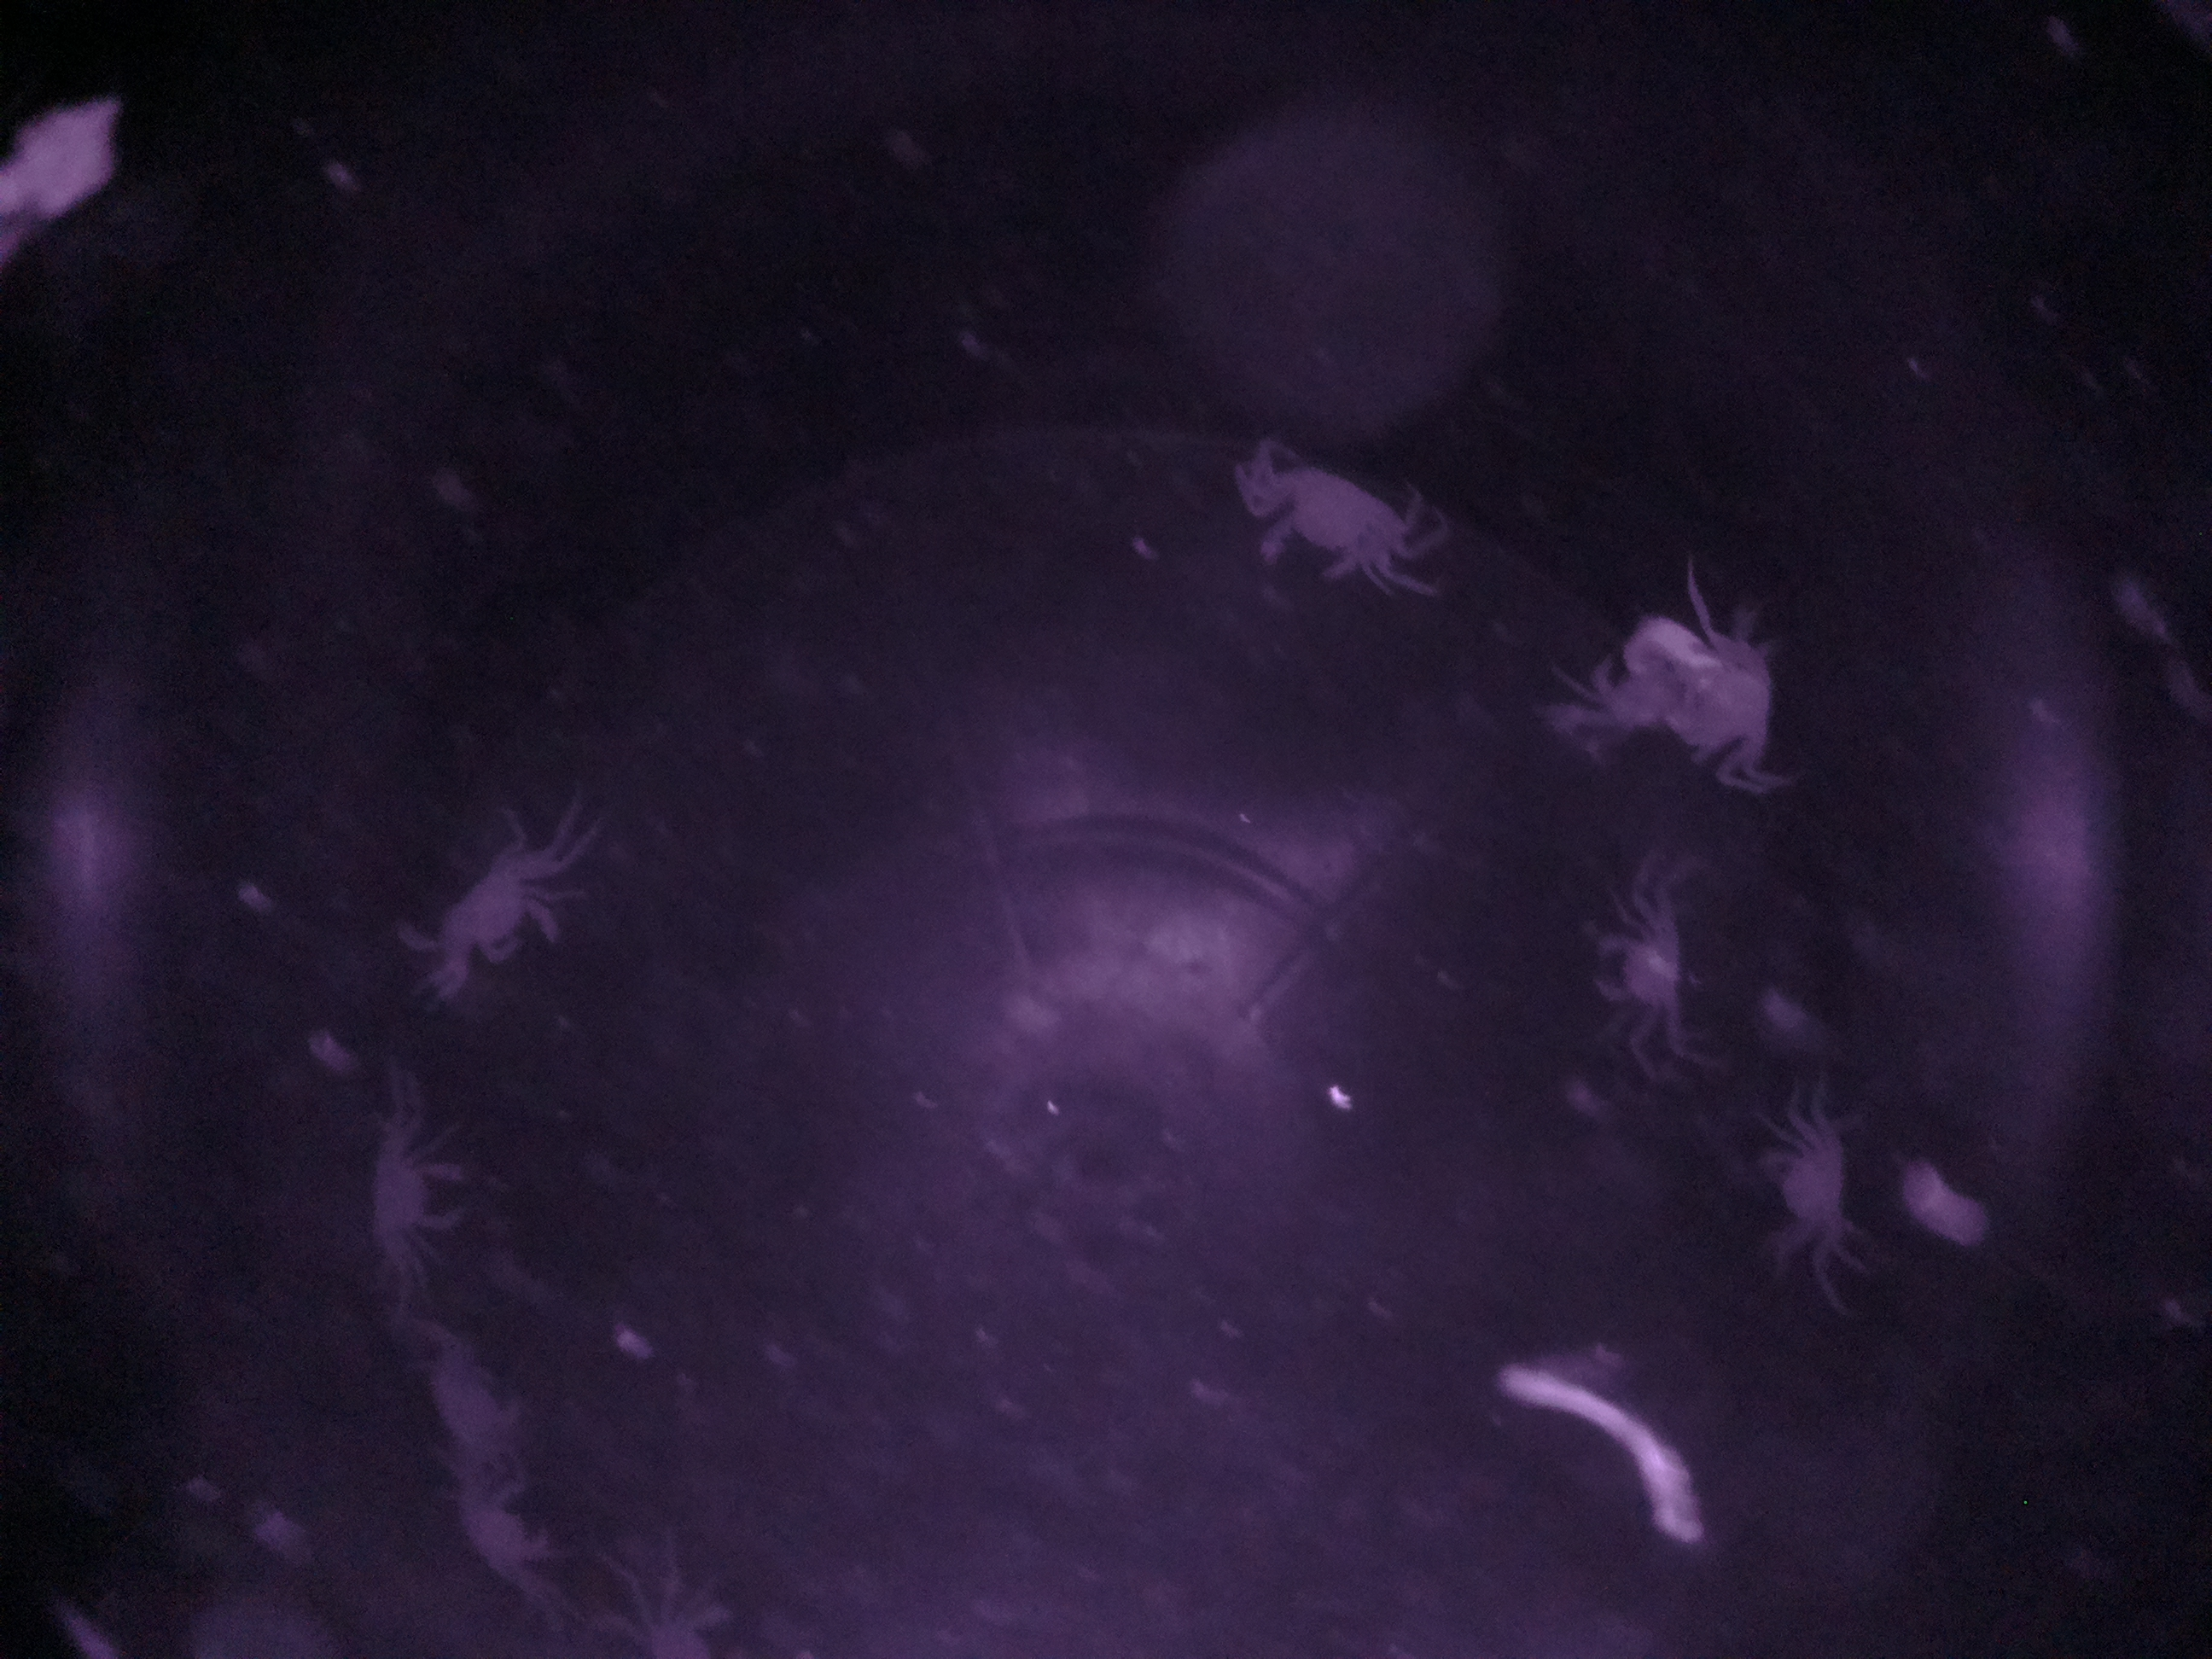Crab: (1197, 432, 1444, 613), (401, 824, 573, 999)
